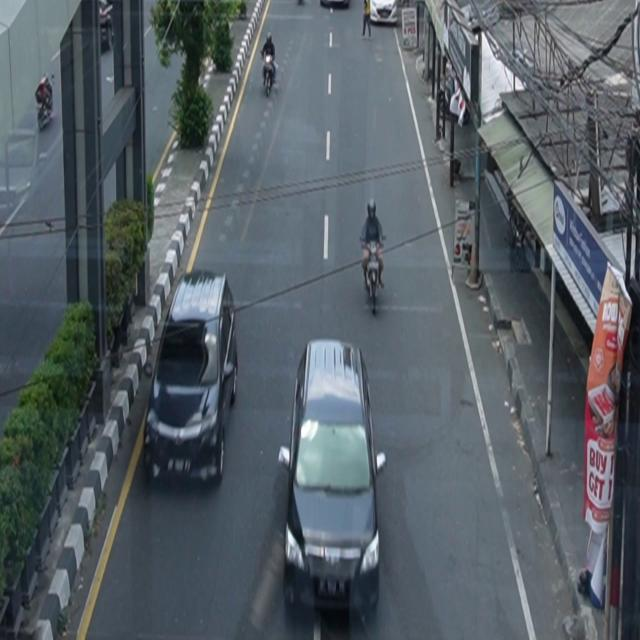car: (279, 339, 388, 620), (143, 270, 239, 488)
